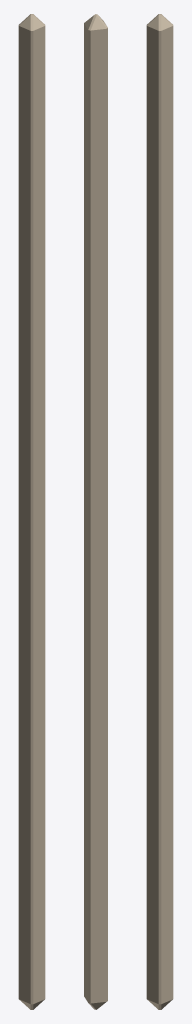
The model's file is well_rope.glb.
3 renders of one model, left to right at view 1: azimuth 90°, elevation 25°; view 2: azimuth 150°, elevation 25°; view 3: azimuth 270°, elevation 25°, orthographic.
Visible parts, largest first — view 1: rope; view 2: rope; view 3: rope.
Boxes of the visible parts, x1,y1,x2,y2 form: rope: (18, 14, 45, 1009); rope: (84, 14, 107, 1009); rope: (146, 14, 173, 1009).
Bounding box in the file's own units: 0.024 × 1 × 0.024.
